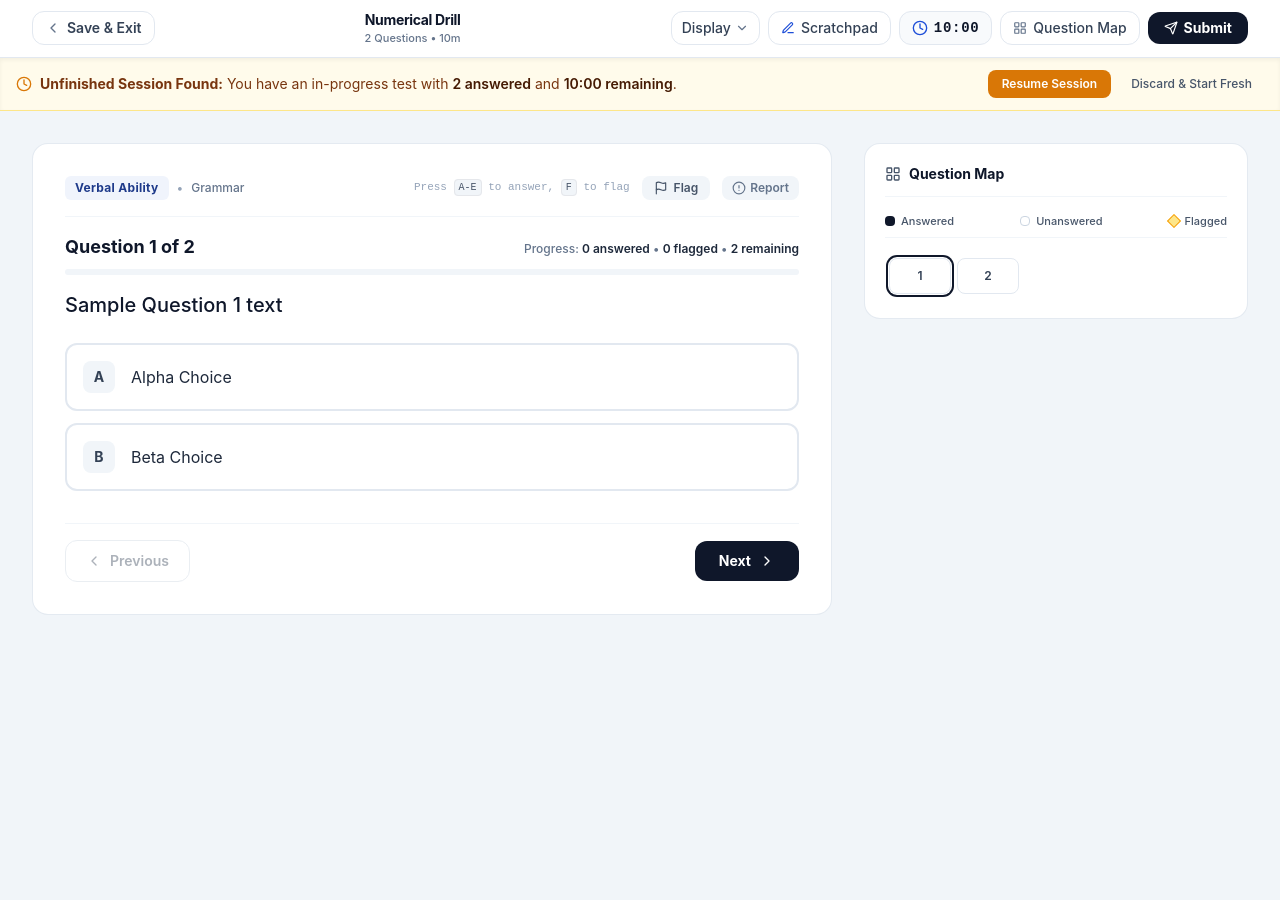
Test: ExamRunner Component › opens and interacts with the virtual arithmetic scratchpad
# Click scratchpad button
Click the button "Scratchpad".
click(829, 28)  # box top-left (768, 11), bottom-right (891, 45)
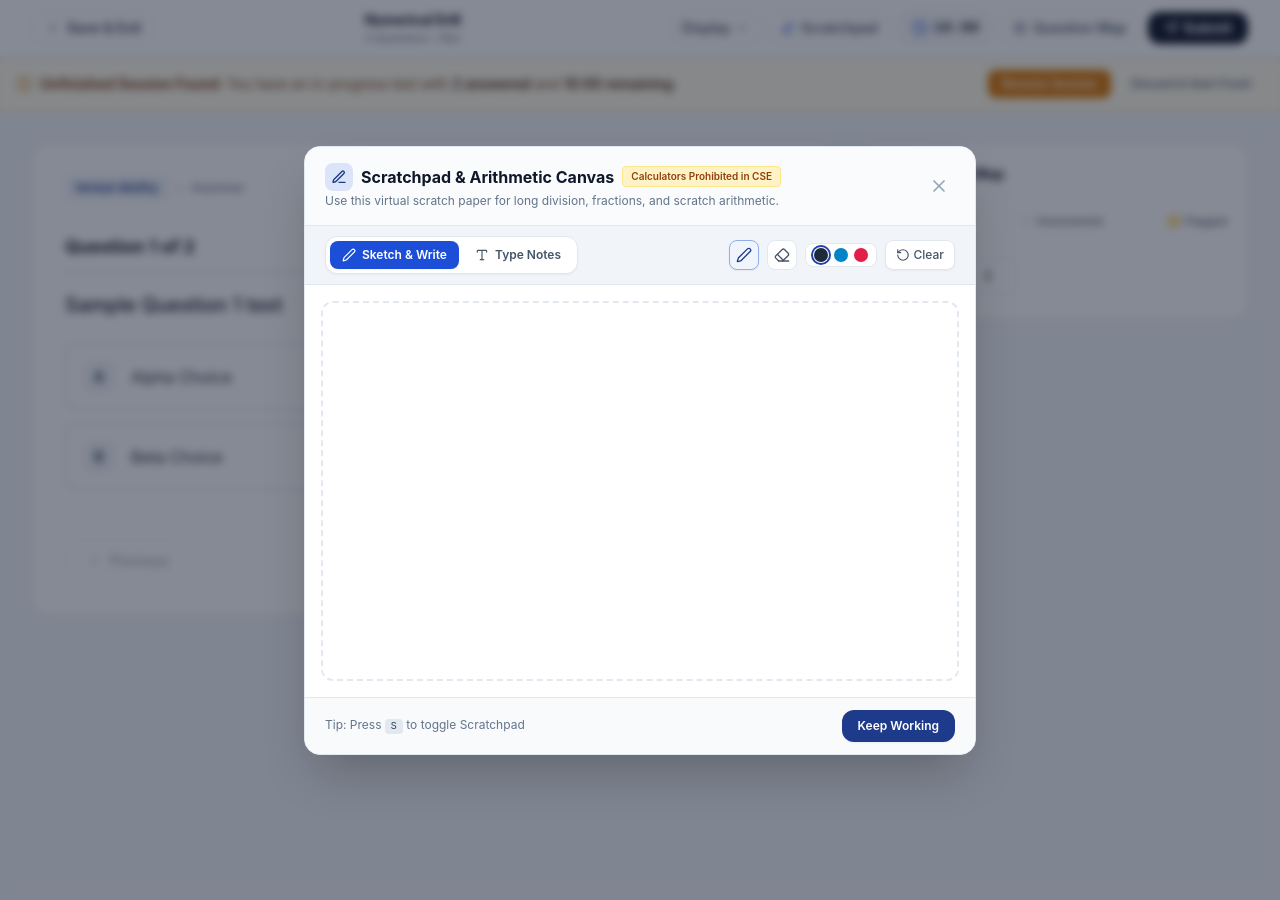
Now the heading "Scratchpad & Arithmetic Canvas" is shown, box top-left (361, 164), bottom-right (614, 188)
# Switch to type notes
Click the button "Type Notes".
click(518, 254)  # box top-left (463, 240), bottom-right (573, 268)
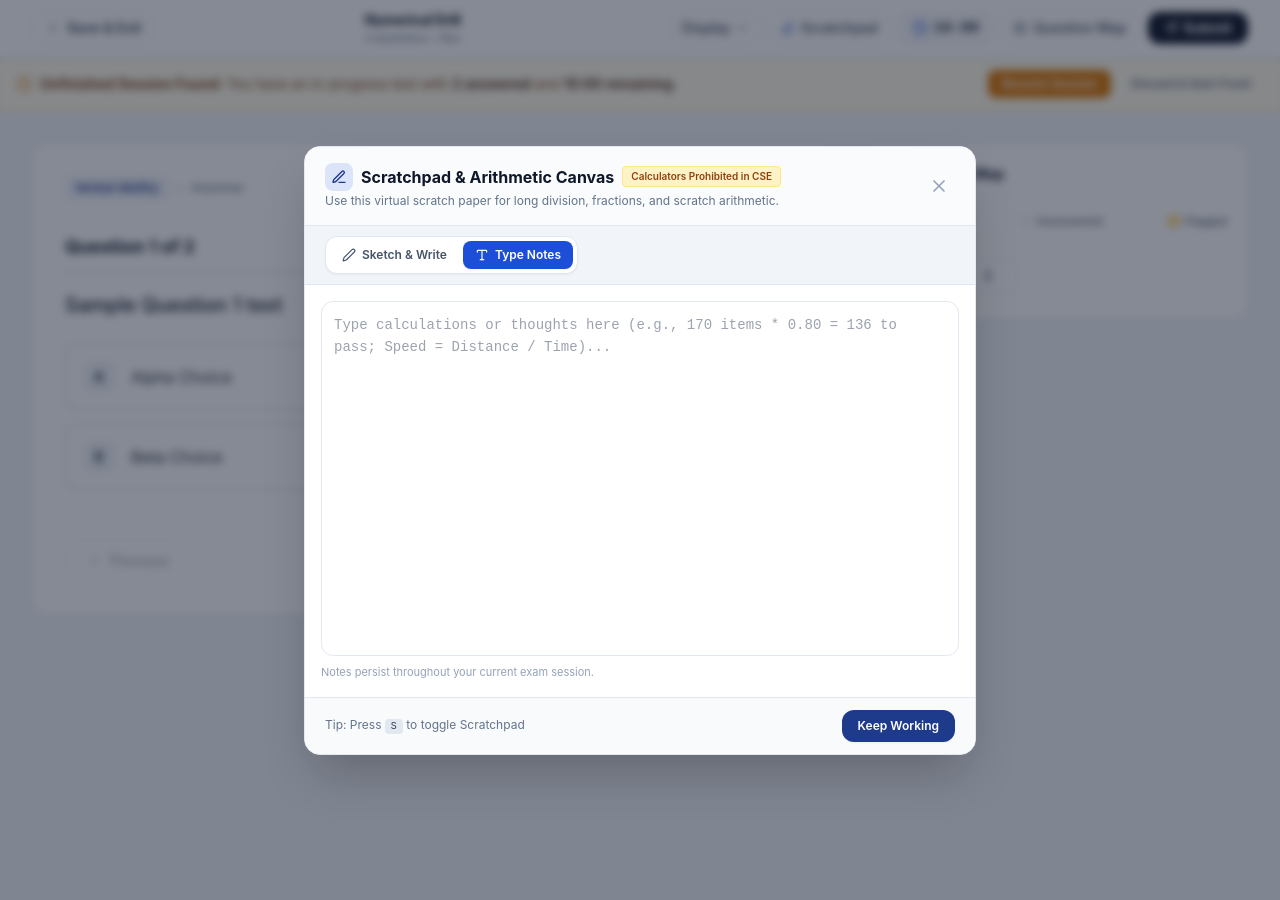
Replace the text in the text box with placeholder "Type calculations or thoughts here" with "170 * 0.8 = 136" at (640, 478), box top-left (321, 300), bottom-right (959, 656)
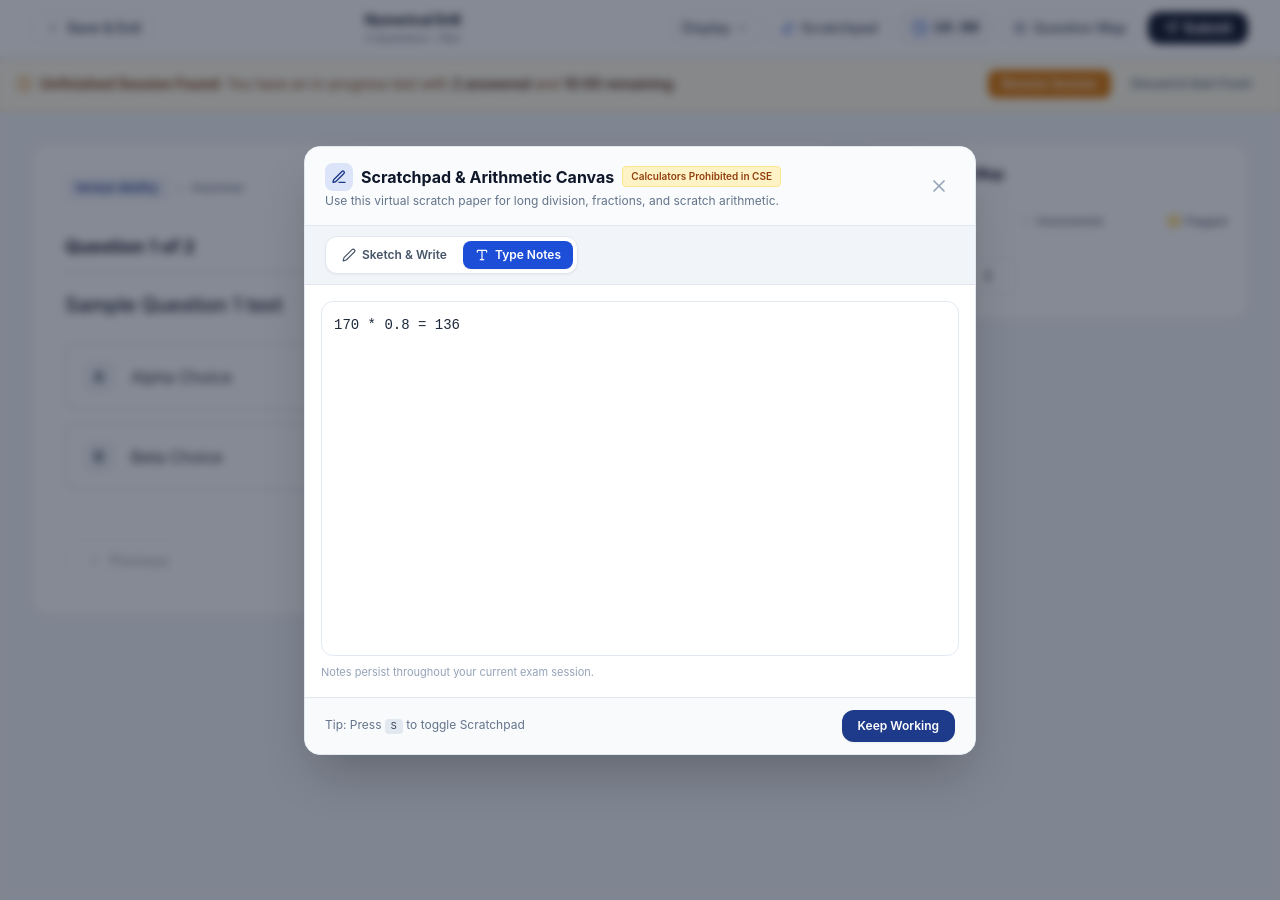
# Close scratchpad
Click the button "Keep Working".
click(898, 726)  # box top-left (842, 710), bottom-right (955, 742)
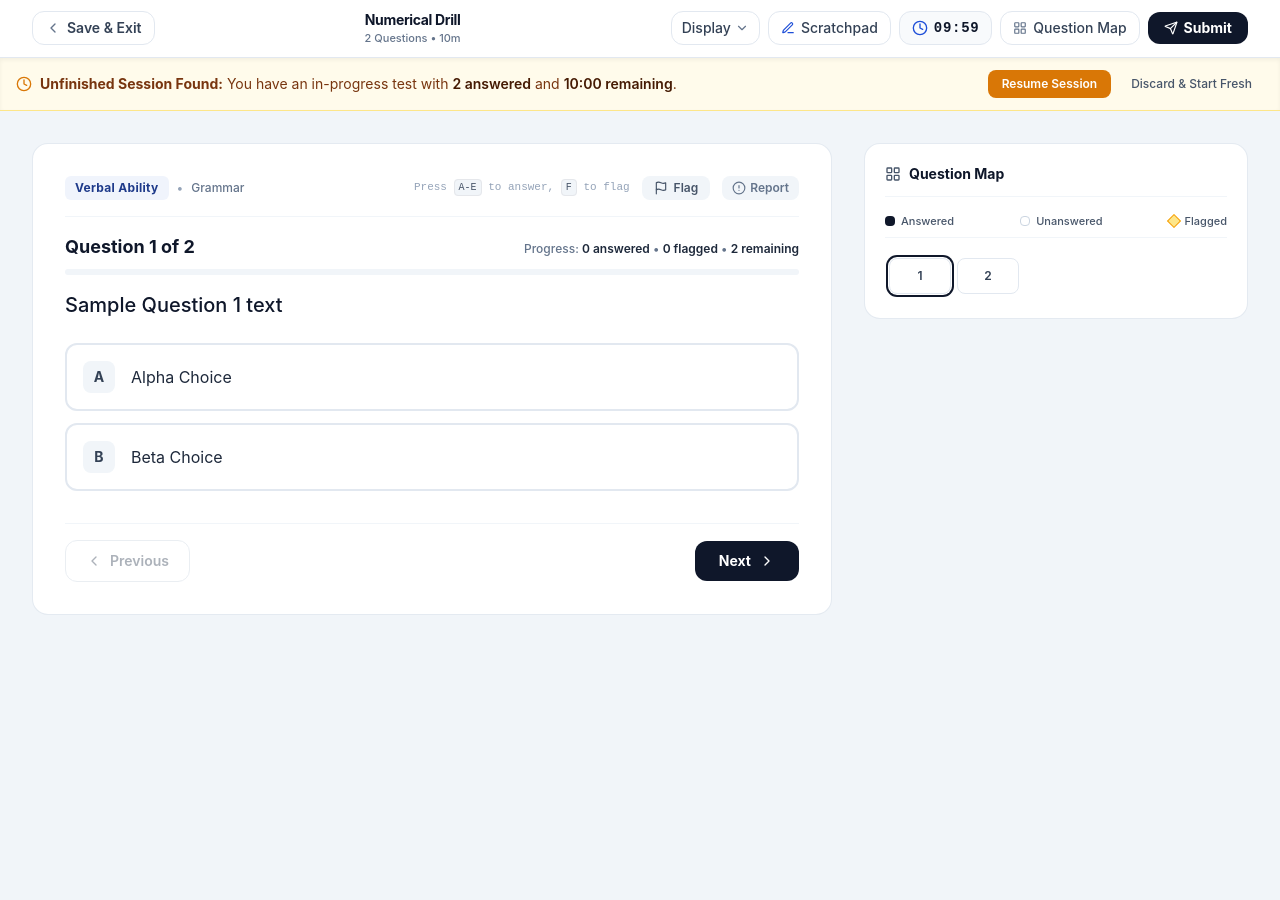
Now the heading "Scratchpad & Arithmetic Canvas" is gone
